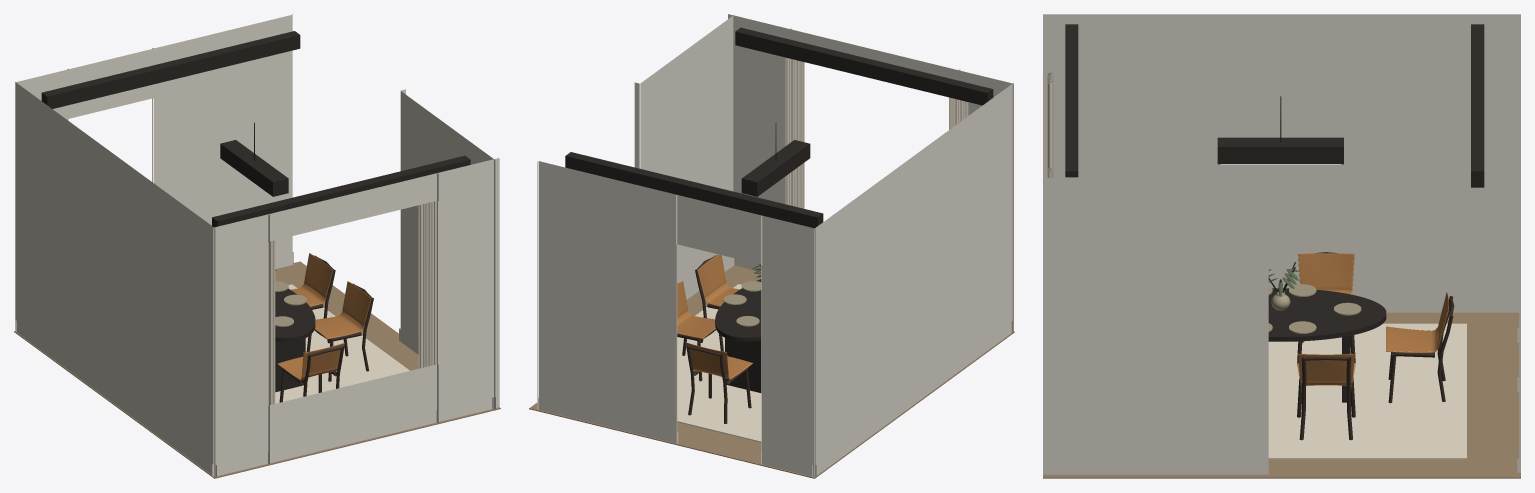
Rendered from dining-3.glb.
The picture shows the model from 3 angles, left to right: view 1: azimuth 30°, elevation 25°; view 2: azimuth 150°, elevation 25°; view 3: azimuth 270°, elevation 25°; orthographic projection. The views are drawn at different scales.
Visible parts, largest first — view 1: DESIGN | dining removable wall finish, DESIGN | Dining timber threshold.001, DESIGN | dining floor finish, DESIGN | Dining ground, DESIGN | Dining linen edge.001, DESIGN | Dining timber threshold, DESIGN | Required Isadora dining chair 3, DESIGN | Dining light 1 shade, DESIGN | Required Isadora dining chair 5, DESIGN | Required Isadora dining chair 4, DESIGN | Dining table top, DESIGN | Dining linen edge (+1 smaller); view 2: DESIGN | dining removable wall finish, DESIGN | Dining timber threshold, DESIGN | Dining ground, DESIGN | Dining timber threshold.001, DESIGN | dining floor finish, DESIGN | Dining linen edge.001, DESIGN | Required Isadora dining chair 6, DESIGN | Dining light 1 shade, DESIGN | Dining table top, DESIGN | Required Isadora dining chair 3, DESIGN | Required Isadora dining chair 4, DESIGN | Dining table trestle.001; view 3: DESIGN | dining removable wall finish, DESIGN | Dining ground, DESIGN | dining floor finish, DESIGN | Dining table top, DESIGN | Dining light 1 shade, DESIGN | Required Isadora dining chair 6, DESIGN | Required Isadora dining chair 4, DESIGN | Dining timber threshold.001, DESIGN | Required Isadora dining chair 2, DESIGN | Dining timber threshold, DESIGN | Dining linen edge.
Part boxes in pixels (x1=…): DESIGN | dining removable wall finish: x1=15, y1=14, x2=499, y2=477; DESIGN | Dining timber threshold.001: x1=41, y1=31, x2=300, y2=108; DESIGN | dining floor finish: x1=14, y1=261, x2=500, y2=478; DESIGN | Dining ground: x1=275, y1=284, x2=409, y2=403; DESIGN | Dining linen edge.001: x1=418, y1=201, x2=436, y2=368; DESIGN | Dining timber threshold: x1=212, y1=155, x2=470, y2=227; DESIGN | Required Isadora dining chair 3: x1=306, y1=281, x2=373, y2=381; DESIGN | Dining light 1 shade: x1=220, y1=140, x2=288, y2=196; DESIGN | Required Isadora dining chair 5: x1=277, y1=342, x2=344, y2=402; DESIGN | Required Isadora dining chair 4: x1=291, y1=253, x2=335, y2=343; DESIGN | Dining table top: x1=275, y1=288, x2=315, y2=341; DESIGN | Dining linen edge: x1=268, y1=240, x2=275, y2=405; DESIGN | dining removable wall finish: x1=537, y1=14, x2=1013, y2=477; DESIGN | Dining timber threshold: x1=735, y1=27, x2=993, y2=105; DESIGN | Dining ground: x1=677, y1=284, x2=761, y2=442; DESIGN | Dining timber threshold.001: x1=565, y1=152, x2=823, y2=228; DESIGN | dining floor finish: x1=529, y1=265, x2=1014, y2=478; DESIGN | Dining linen edge.001: x1=785, y1=57, x2=804, y2=208; DESIGN | Required Isadora dining chair 6: x1=685, y1=342, x2=752, y2=423; DESIGN | Dining light 1 shade: x1=741, y1=140, x2=810, y2=196; DESIGN | Dining table top: x1=715, y1=279, x2=761, y2=341; DESIGN | Required Isadora dining chair 3: x1=695, y1=254, x2=739, y2=342; DESIGN | Required Isadora dining chair 4: x1=677, y1=281, x2=723, y2=381; DESIGN | Dining table trestle.001: x1=725, y1=338, x2=761, y2=392; DESIGN | dining removable wall finish: x1=1043, y1=14, x2=1520, y2=474; DESIGN | Dining ground: x1=1268, y1=323, x2=1466, y2=459; DESIGN | dining floor finish: x1=1043, y1=312, x2=1520, y2=478; DESIGN | Dining table top: x1=1268, y1=288, x2=1386, y2=341; DESIGN | Dining light 1 shade: x1=1217, y1=137, x2=1343, y2=164; DESIGN | Required Isadora dining chair 6: x1=1386, y1=292, x2=1454, y2=403; DESIGN | Required Isadora dining chair 4: x1=1297, y1=353, x2=1355, y2=440; DESIGN | Dining timber threshold.001: x1=1471, y1=24, x2=1484, y2=187; DESIGN | Required Isadora dining chair 2: x1=1297, y1=252, x2=1355, y2=364; DESIGN | Dining timber threshold: x1=1065, y1=24, x2=1078, y2=177; DESIGN | Dining linen edge: x1=1047, y1=72, x2=1053, y2=170.
Bounding box in the file's own units: 3.28 × 2.74 × 3.98.
